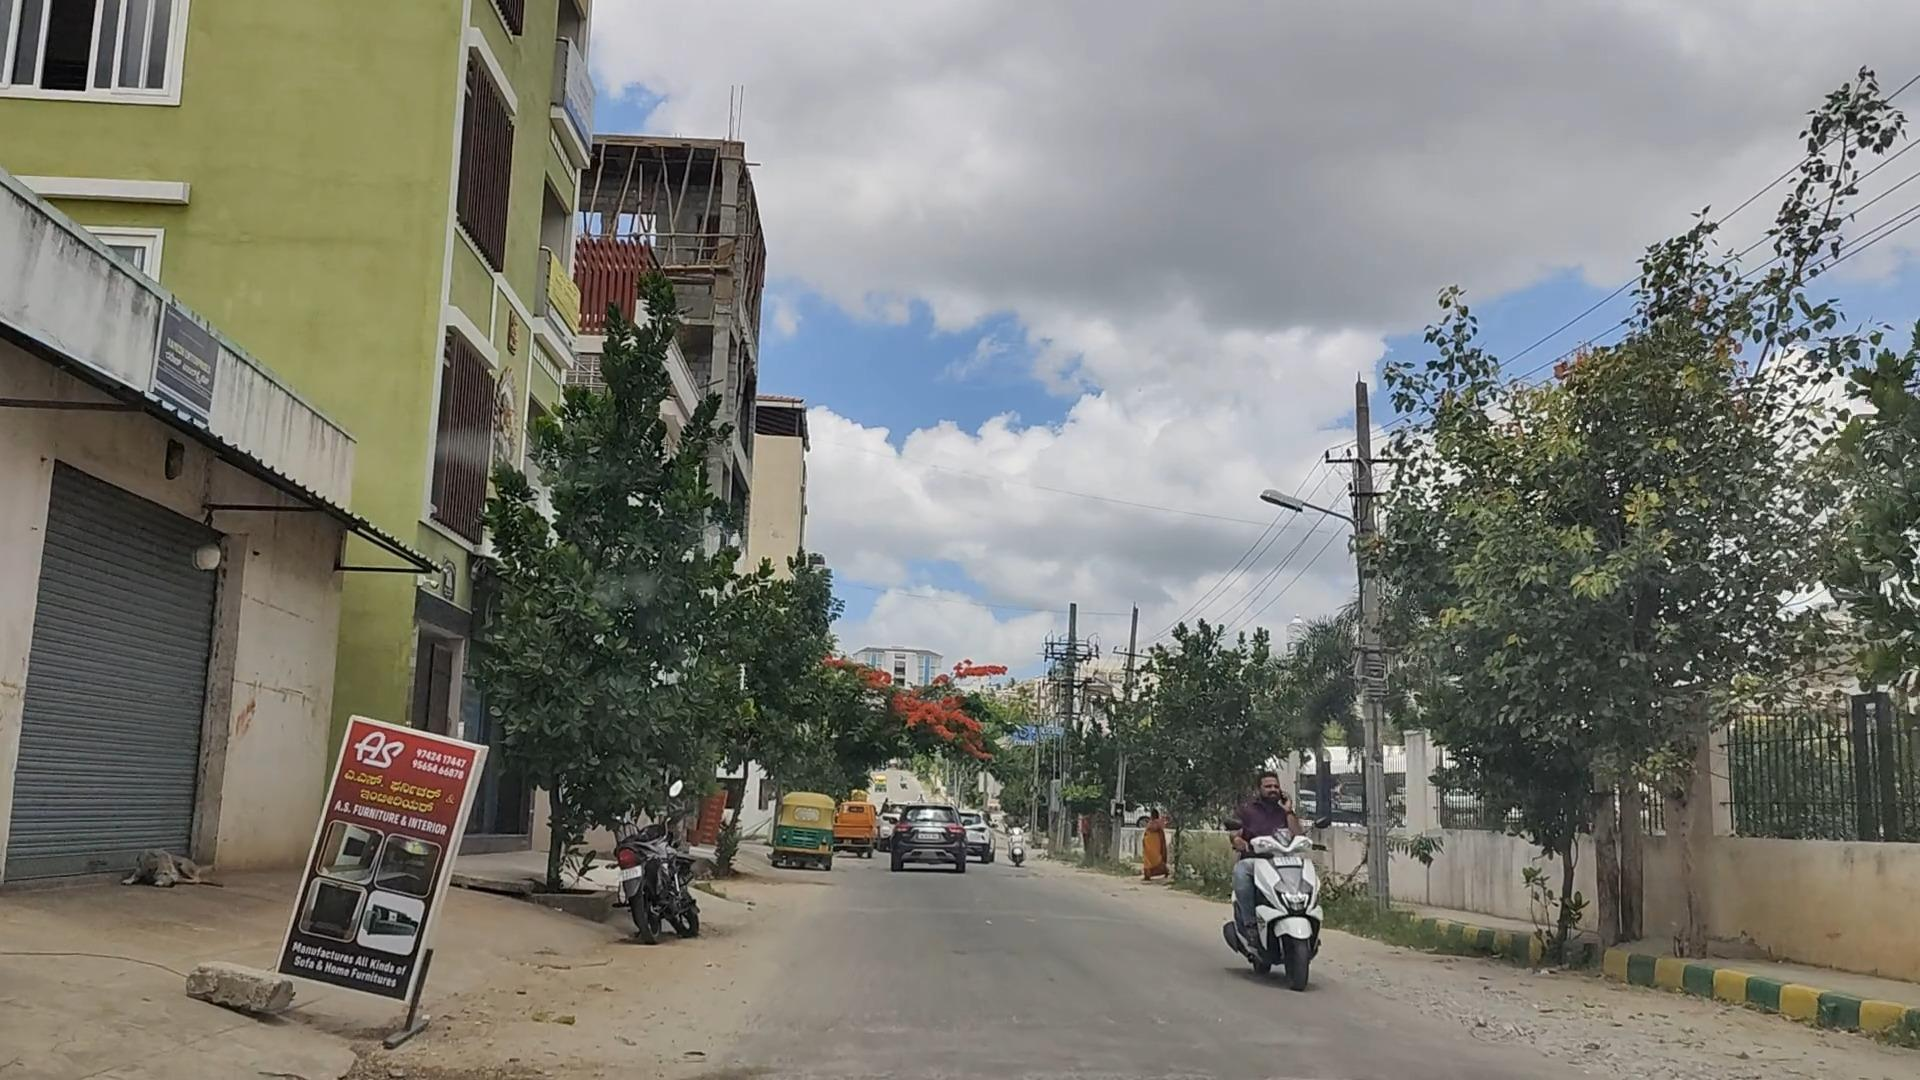RoadDamages: (1208, 984, 1753, 1077)
